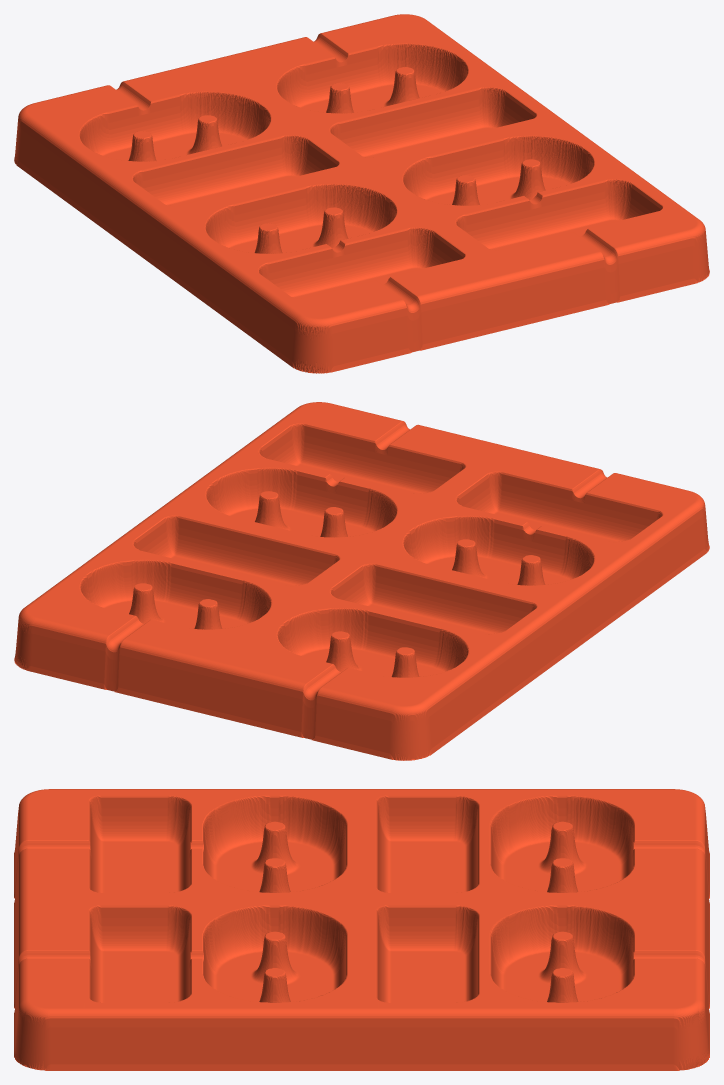
File: mold.glb
3 renders of one model, top to bottom at view 1: azimuth 30°, elevation 25°; view 2: azimuth 150°, elevation 25°; view 3: azimuth 270°, elevation 25°, orthographic. The views are drawn at different scales.
Parts seen in each view (by area): view 1: geometry_0; view 2: geometry_0; view 3: geometry_0.
Boxes of the visible parts, x1,y1,x2,y2 form: geometry_0: (14, 14, 709, 373); geometry_0: (14, 402, 709, 760); geometry_0: (14, 789, 709, 1070).
Bounding box in the file's own units: 0.136 × 0.0155 × 0.1735.
